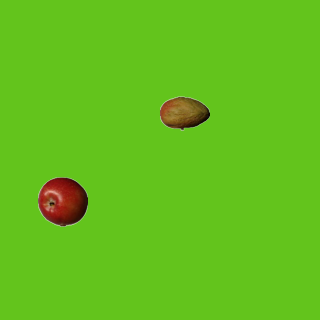Apple Braeburn: (37, 176, 87, 226)
Papaya: (159, 88, 209, 138)
